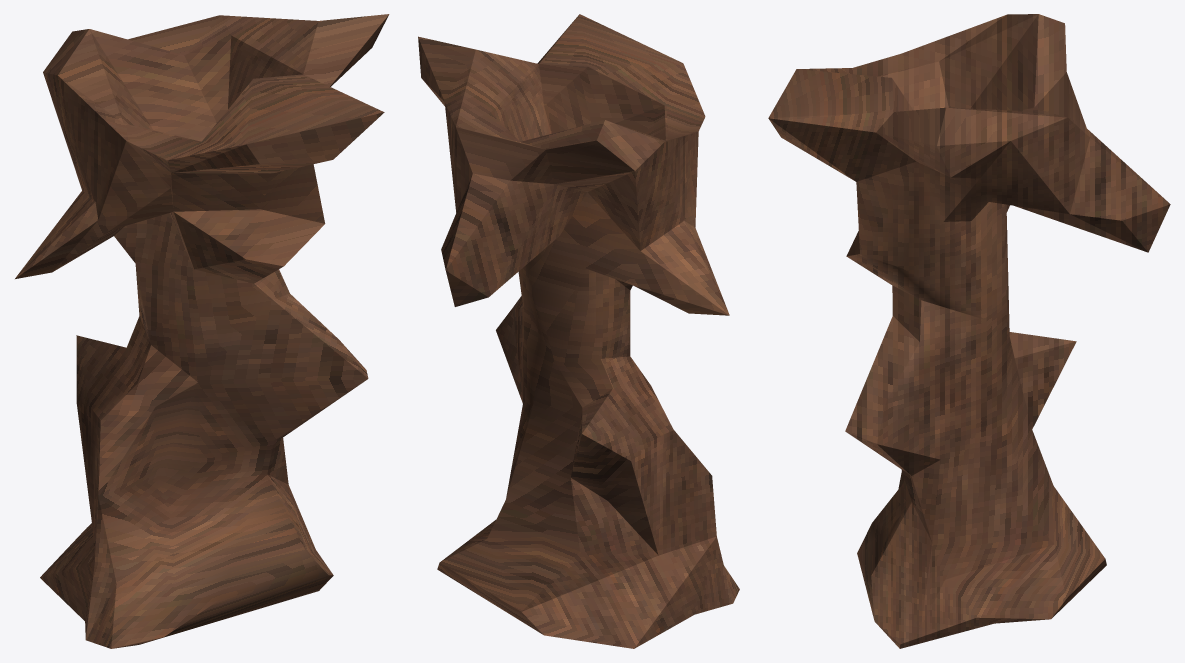
The model's file is tree.glb.
The picture shows the model from 3 angles, left to right: view 1: azimuth 30°, elevation 25°; view 2: azimuth 150°, elevation 25°; view 3: azimuth 270°, elevation 25°; orthographic projection. The views are drawn at different scales.
Visible parts, largest first — view 1: Tree; view 2: Tree; view 3: Tree.
Boxes of the visible parts, x1,y1,x2,y2 form: Tree: [15, 14, 389, 648]; Tree: [418, 14, 739, 648]; Tree: [768, 14, 1170, 648].
Size of the model in its own units: 8.51 by 12.7 by 8.32.
Materials: 1 (1 with a texture image).
